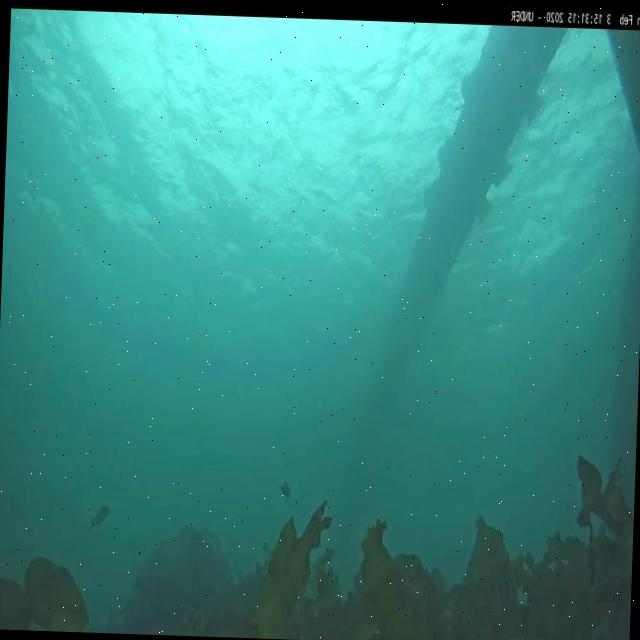fish: (88, 503, 110, 532), (279, 482, 293, 500)
